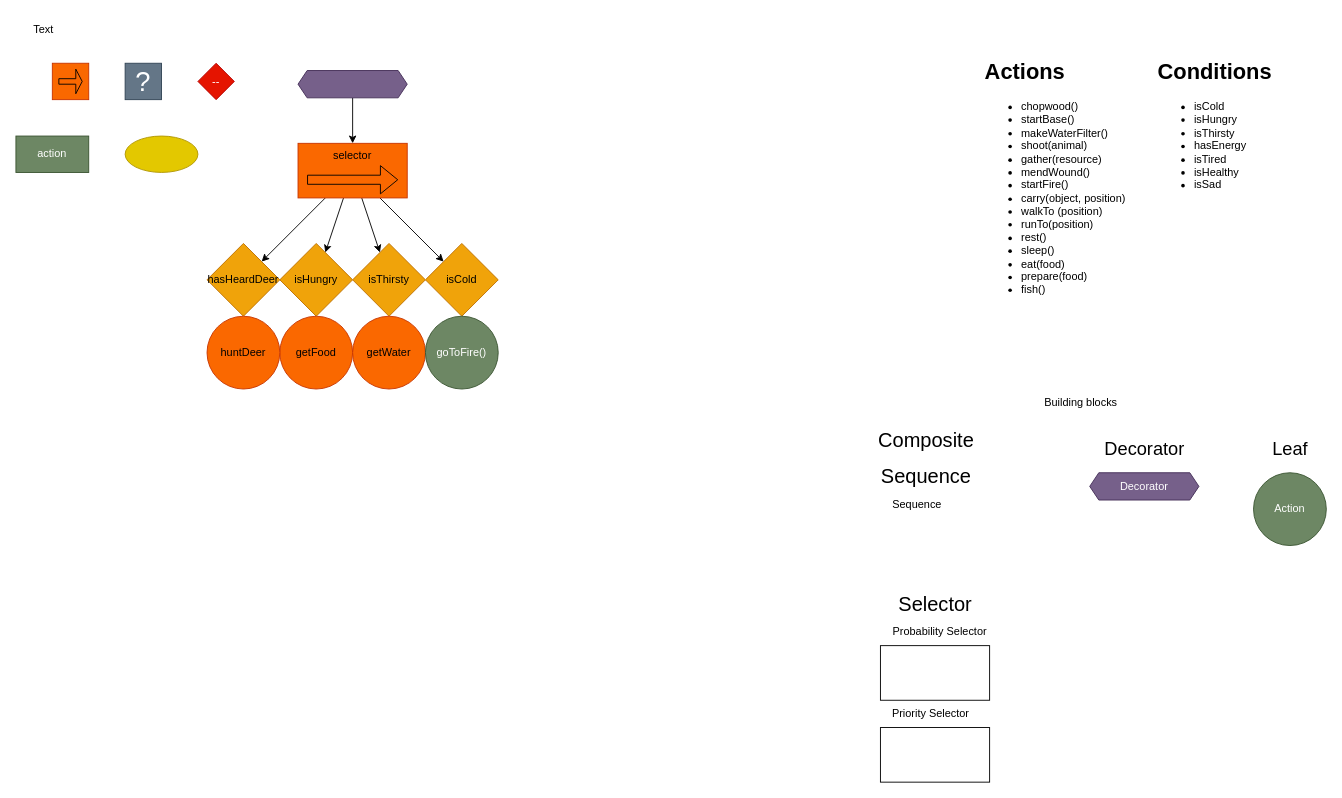
Some shapes in this 1342 by 798 pixel diagram are drawn without their labels. The shapes that lost their labels are listed below. From the top down, each one's centre as x and y in pixels, then its label:
At point (352, 84): "repeat".
At point (161, 153): "condition".
